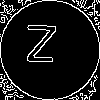Z: (25, 25, 57, 72)
